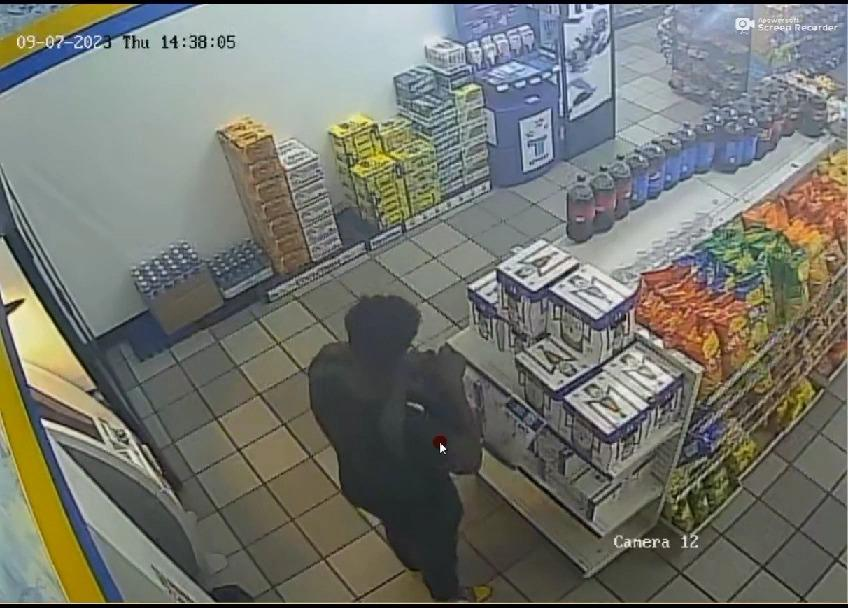shoplifting: (310, 306, 506, 604)
